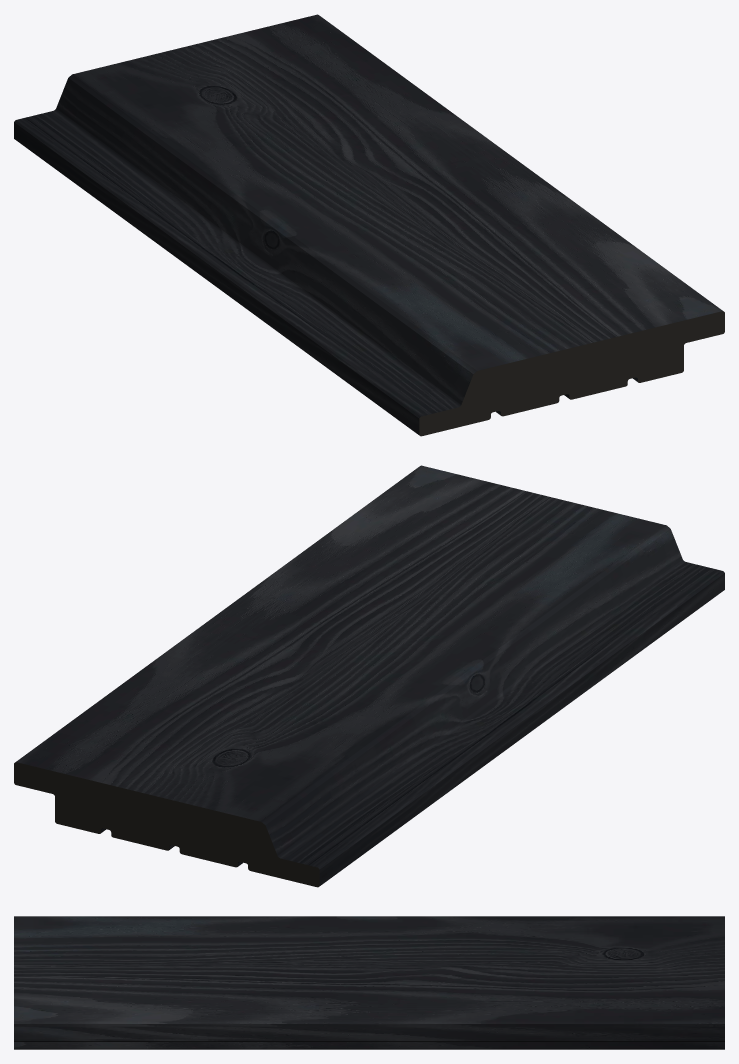
Rendered from larch-facade-half-tenon-black.glb.
The picture shows the model from 3 angles, top to bottom: view 1: azimuth 30°, elevation 25°; view 2: azimuth 150°, elevation 25°; view 3: azimuth 270°, elevation 25°; orthographic projection. The views are drawn at different scales.
Visible parts, largest first — view 1: Pusė_Špunto; view 2: Pusė_Špunto; view 3: Pusė_Špunto.
Part boxes in pixels (x1,y1,x2,y2): Pusė_Špunto: (14, 14, 724, 436); Pusė_Špunto: (14, 465, 724, 887); Pusė_Špunto: (14, 916, 724, 1049).
Size of the model in its own units: 0.0723 by 0.0117 by 0.166.
3 materials, 1 textured.
